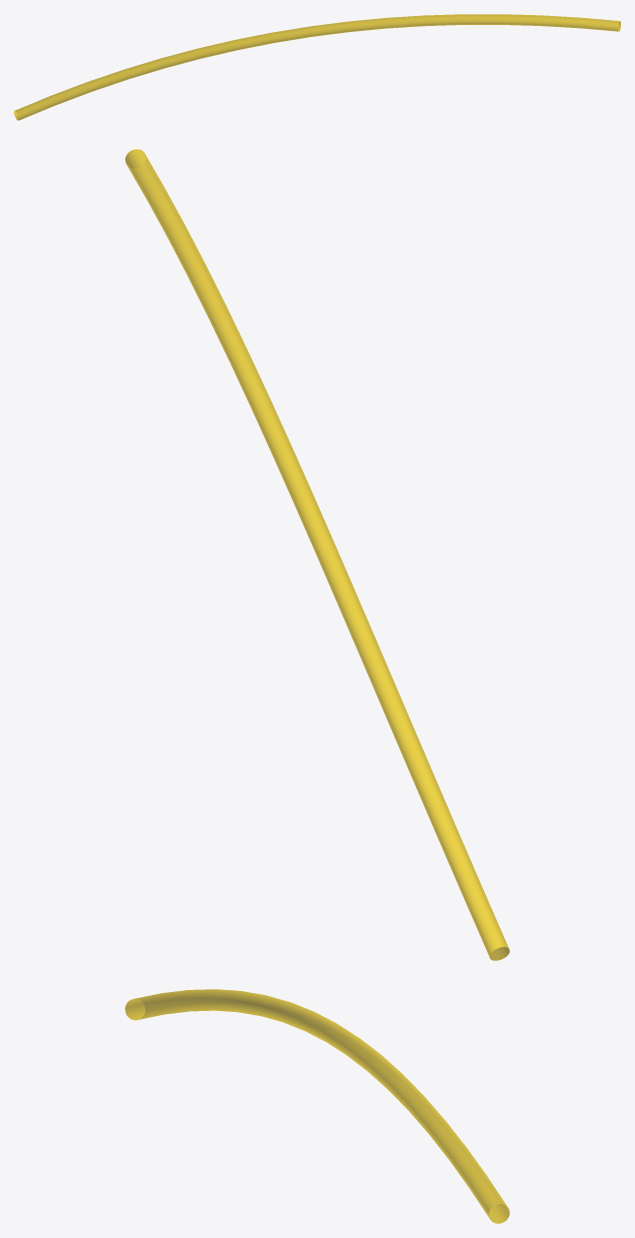
File: Event_402970704_track_24.fbx
The picture shows the model from 3 angles, top to bottom: view 1: azimuth 30°, elevation 25°; view 2: azimuth 150°, elevation 25°; view 3: azimuth 330°, elevation 25°; orthographic projection. The views are drawn at different scales.
Visible parts, largest first — view 1: Model; view 2: Model; view 3: Model.
Part boxes in pixels (box(x1,y1,x2,y2)): Model: box(14, 14, 620, 120); Model: box(125, 149, 509, 960); Model: box(125, 989, 509, 1223).
Size of the model in its own units: 1.71 by 0.6427 by 1.59.
